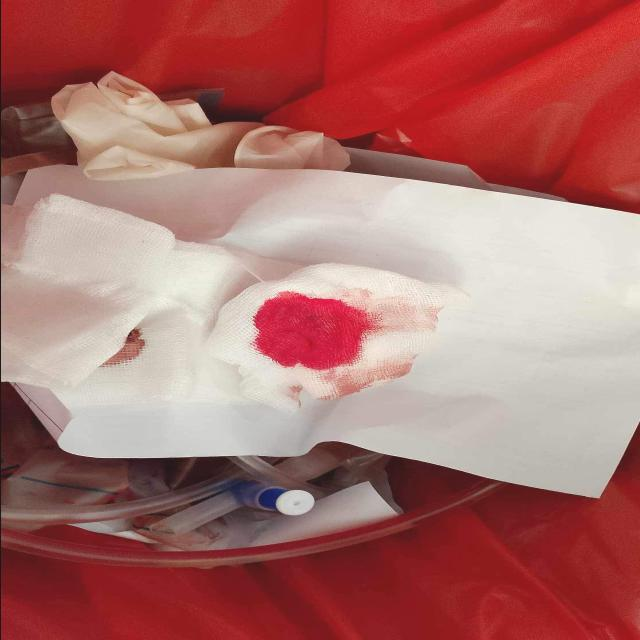General: (3, 77, 637, 568)
Infectious: (201, 262, 471, 414)
Sharps: (142, 479, 316, 536)
